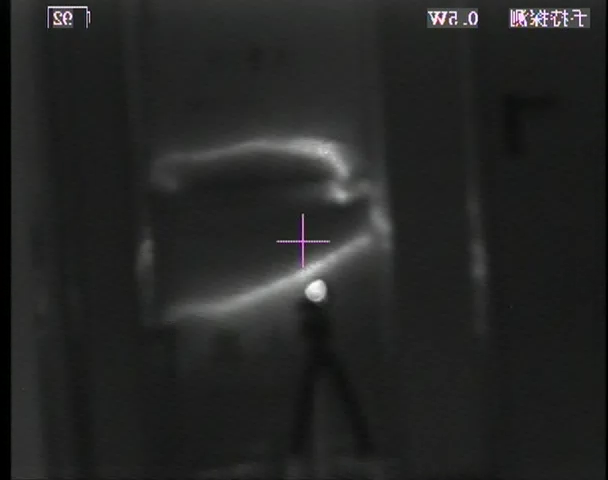my: (303, 277, 328, 304)
